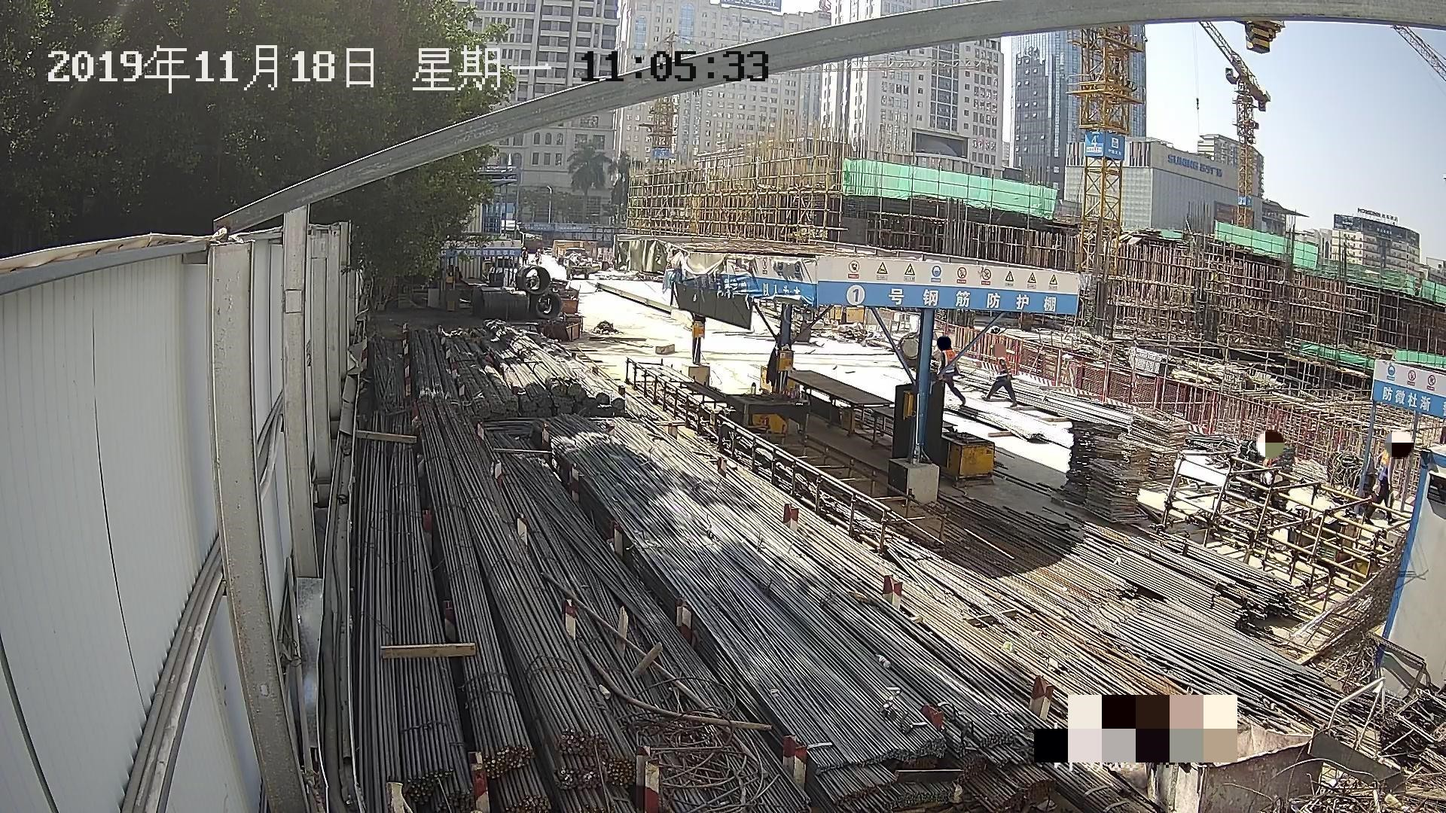hat: (1263, 433, 1279, 450), (1390, 434, 1402, 452), (993, 345, 1005, 356)
person: (1364, 434, 1402, 525), (981, 344, 1018, 409), (1252, 434, 1278, 511)
